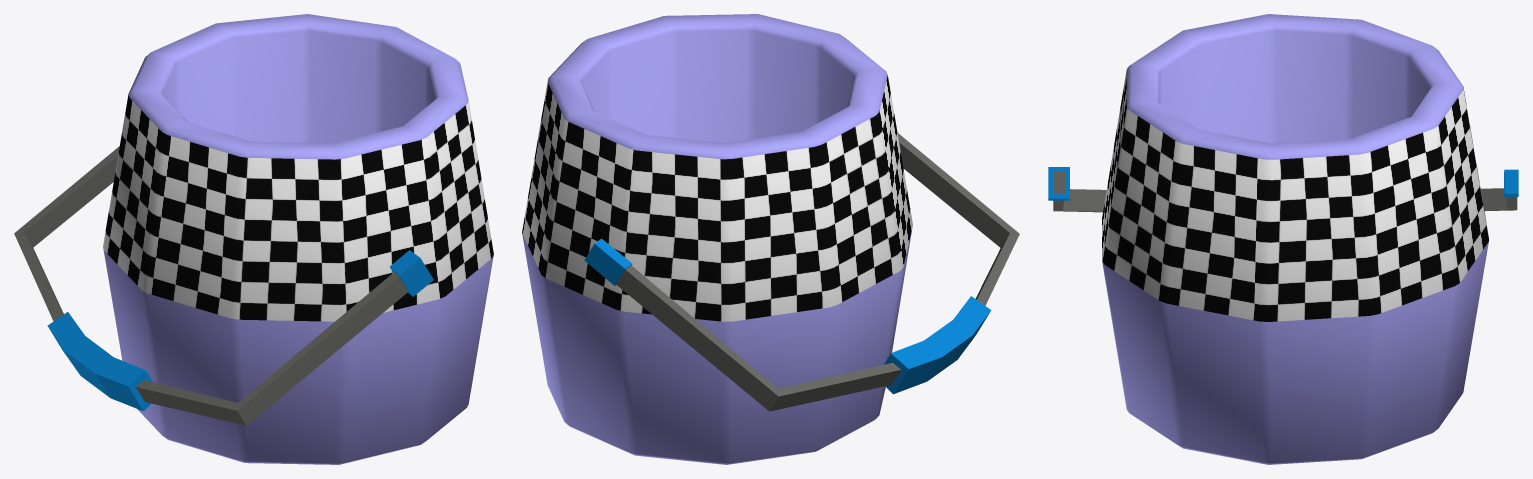
The model's file is winning basket.fbx.
3 renders of one model, left to right at view 1: azimuth 30°, elevation 25°; view 2: azimuth 150°, elevation 25°; view 3: azimuth 270°, elevation 25°, orthographic.
Parts seen in each view (by area): view 1: Plane; view 2: Plane; view 3: Plane.
Boxes of the visible parts, <box> form: Plane: <box>14,14,493,464</box>; Plane: <box>522,14,1019,464</box>; Plane: <box>1048,14,1518,464</box>.
Size of the model in its own units: 62.39 by 45.55 by 60.93.
4 materials, 1 textured.
